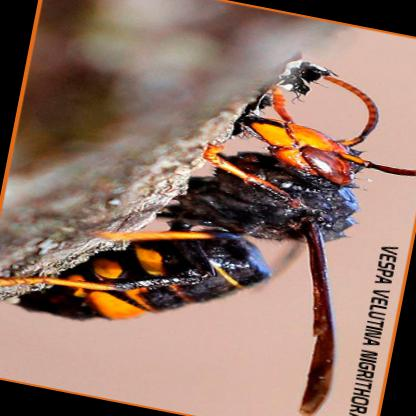asian: (0, 4, 409, 415)
